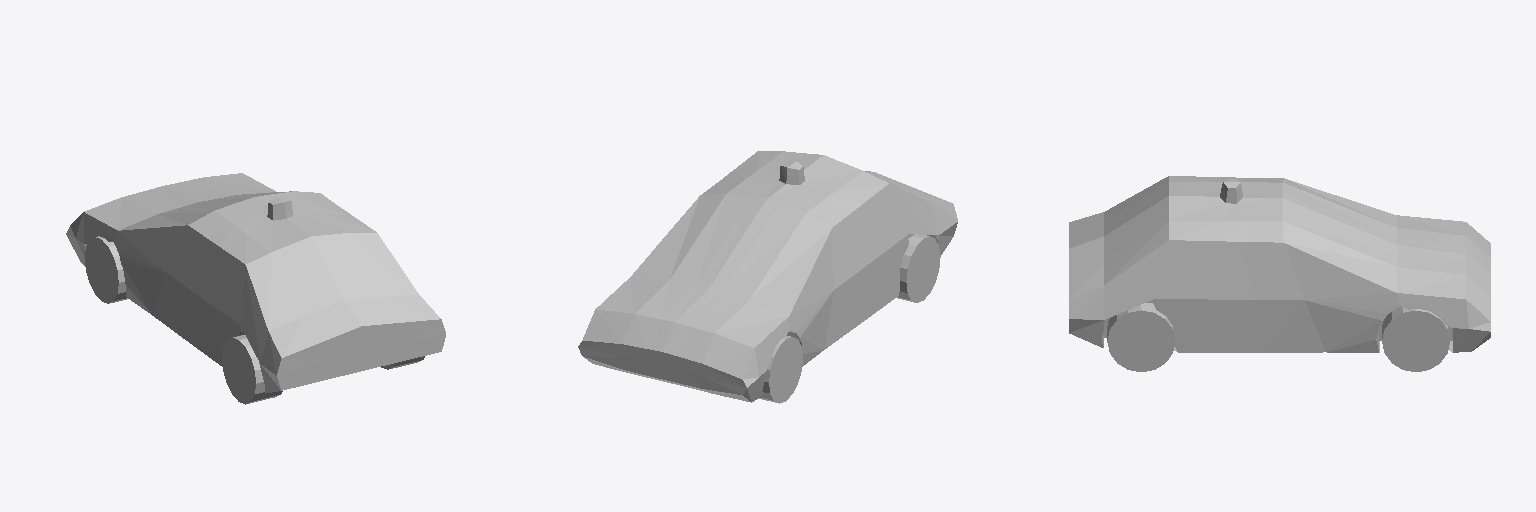
The model's file is policecar.obj.
3 renders of one model, left to right at view 1: azimuth 30°, elevation 25°; view 2: azimuth 150°, elevation 25°; view 3: azimuth 270°, elevation 25°, orthographic.
Parts seen in each view (by area): view 1: policecar; view 2: policecar; view 3: policecar.
Part boxes in pixels (x1,y1,x2,y2): policecar: (66,173,445,404); policecar: (578,151,957,403); policecar: (1069,176,1490,371).
Size of the model in its own units: 2.12 by 1.74 by 4.49.